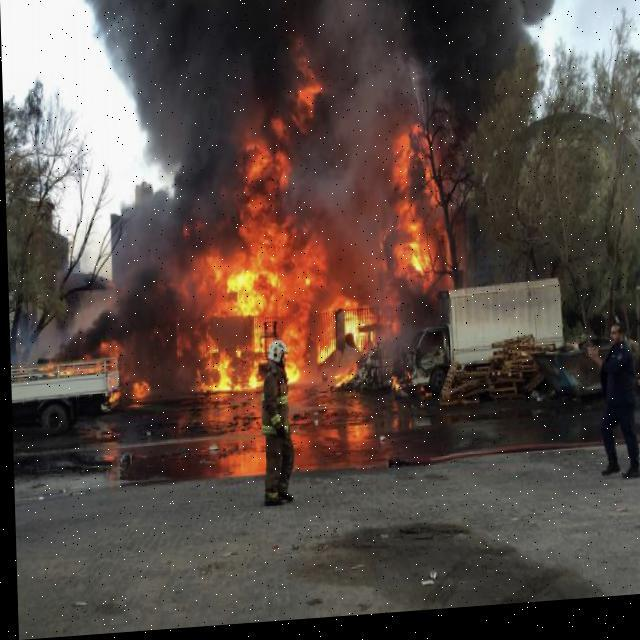Fire: (106, 48, 456, 416)
